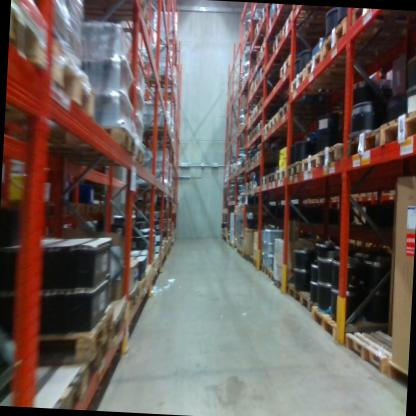pallet: (7, 30, 107, 151), (13, 296, 118, 365), (46, 113, 138, 170), (0, 357, 100, 406), (320, 17, 400, 69), (7, 0, 57, 81), (309, 303, 396, 349), (343, 324, 408, 379), (72, 329, 116, 391), (285, 69, 360, 105), (301, 50, 370, 83), (78, 0, 153, 30), (379, 96, 416, 155), (92, 299, 129, 354), (88, 141, 147, 173), (278, 9, 331, 44), (341, 128, 382, 167), (272, 30, 333, 55), (275, 99, 329, 123), (265, 111, 319, 134), (380, 357, 408, 397), (275, 48, 305, 80), (316, 138, 343, 172), (349, 9, 385, 31), (118, 283, 141, 316), (38, 202, 84, 218), (284, 280, 312, 306), (250, 76, 285, 95), (261, 121, 297, 139), (297, 291, 321, 315), (253, 17, 277, 40), (301, 150, 320, 178), (257, 62, 289, 78), (129, 273, 149, 295), (250, 86, 271, 106), (286, 161, 303, 181), (265, 13, 285, 30), (243, 180, 262, 195), (265, 262, 277, 283), (256, 94, 271, 110), (255, 149, 269, 166), (273, 166, 286, 184), (260, 171, 271, 192), (257, 37, 269, 55), (249, 105, 265, 118), (267, 168, 277, 187), (269, 4, 290, 13), (255, 119, 265, 136), (273, 275, 283, 290), (259, 259, 268, 275), (247, 150, 255, 168), (250, 257, 260, 271), (83, 202, 95, 213), (245, 114, 256, 126), (248, 126, 259, 137), (95, 203, 106, 213), (246, 253, 253, 265)
